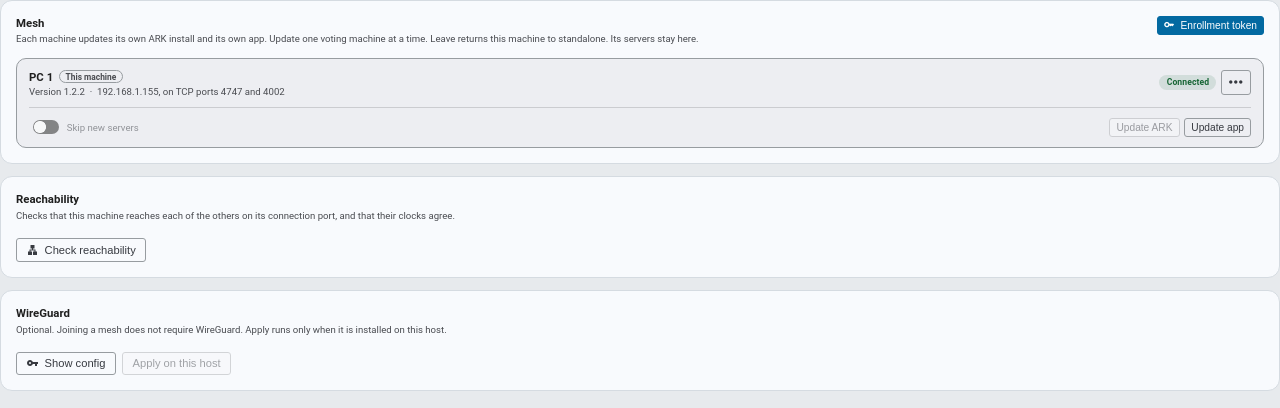
it: MeshSettingsComponent › the address other machines use › is not offered to someone who cannot manage machines
This screenshot has width=1280, height=408.
Click the button with class "mesh-node-more" at (1236, 82), box [1221,70,1251,95]
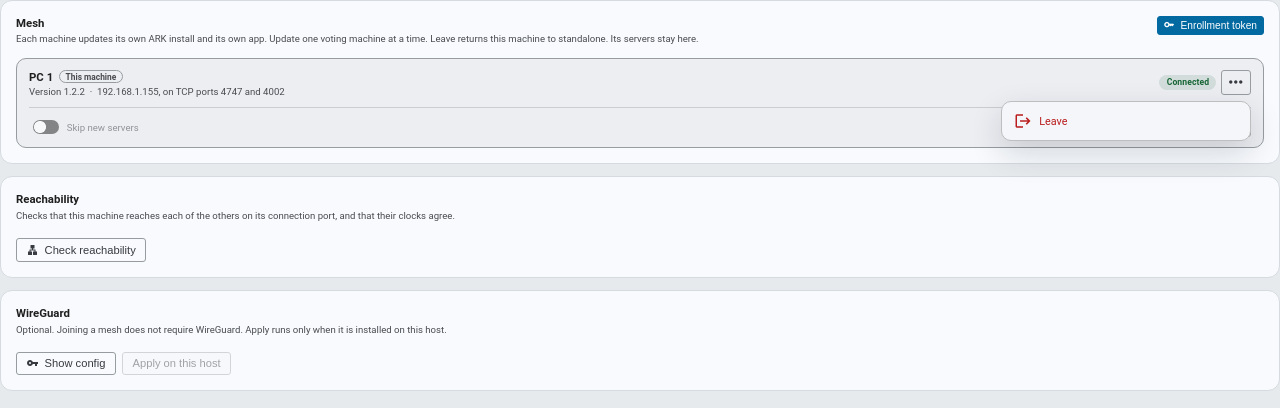
Expected: the menu with class "mesh-node-menu" is shown, [1001,101,1251,142]
